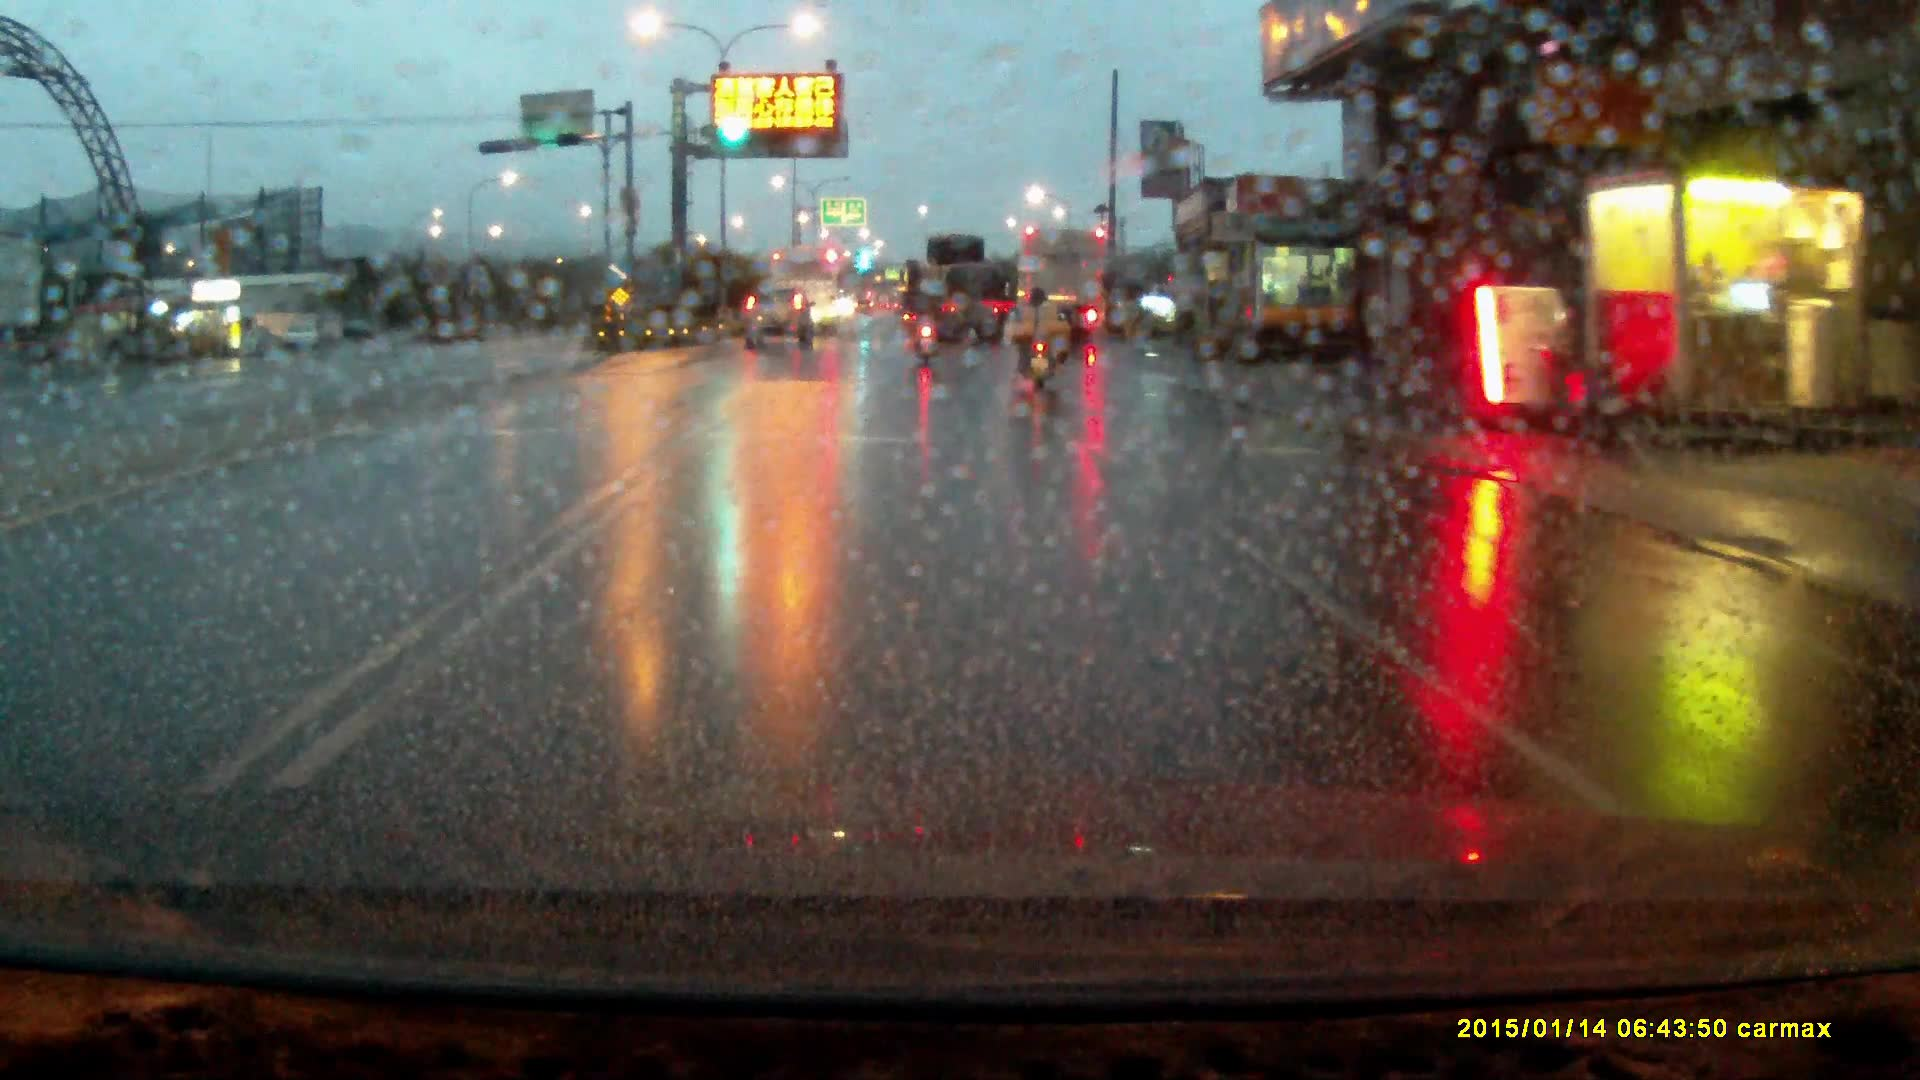rider: (1018, 287, 1061, 397), (908, 282, 941, 365)
vehicle: (913, 236, 1010, 347), (1020, 229, 1108, 345), (767, 247, 840, 335), (743, 284, 813, 348)
